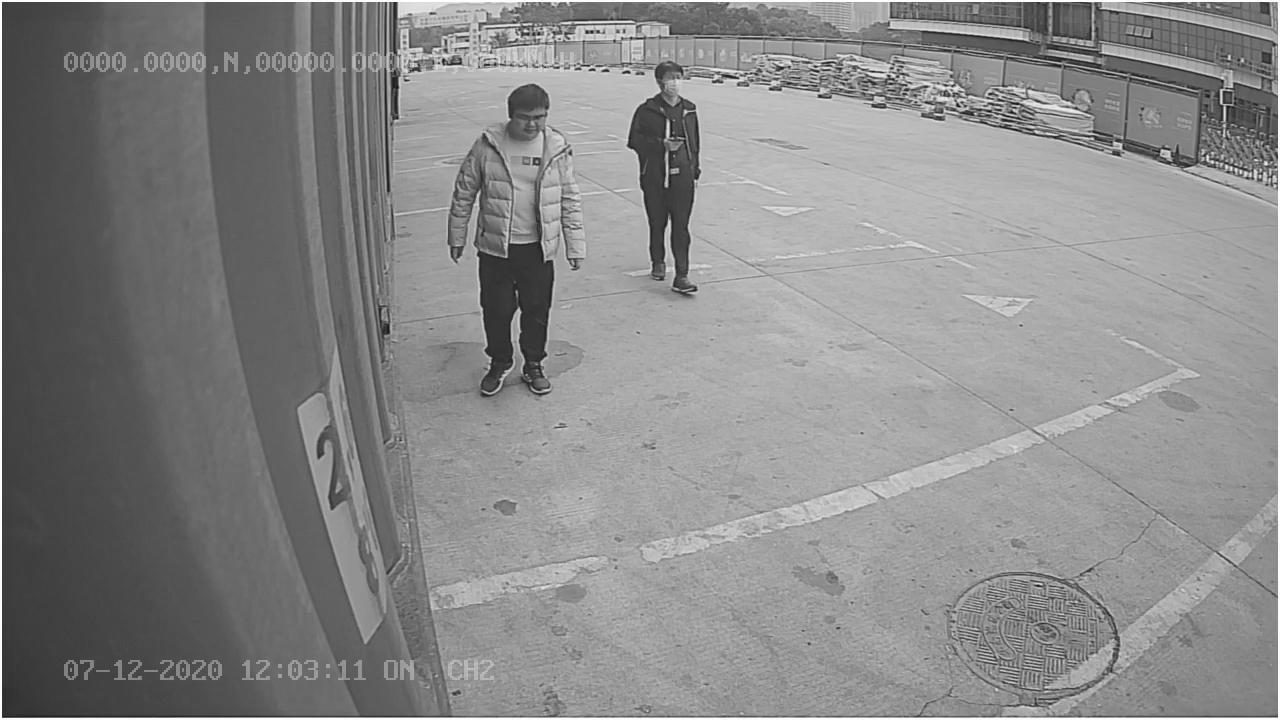person: (441, 85, 589, 398), (627, 51, 707, 301)
